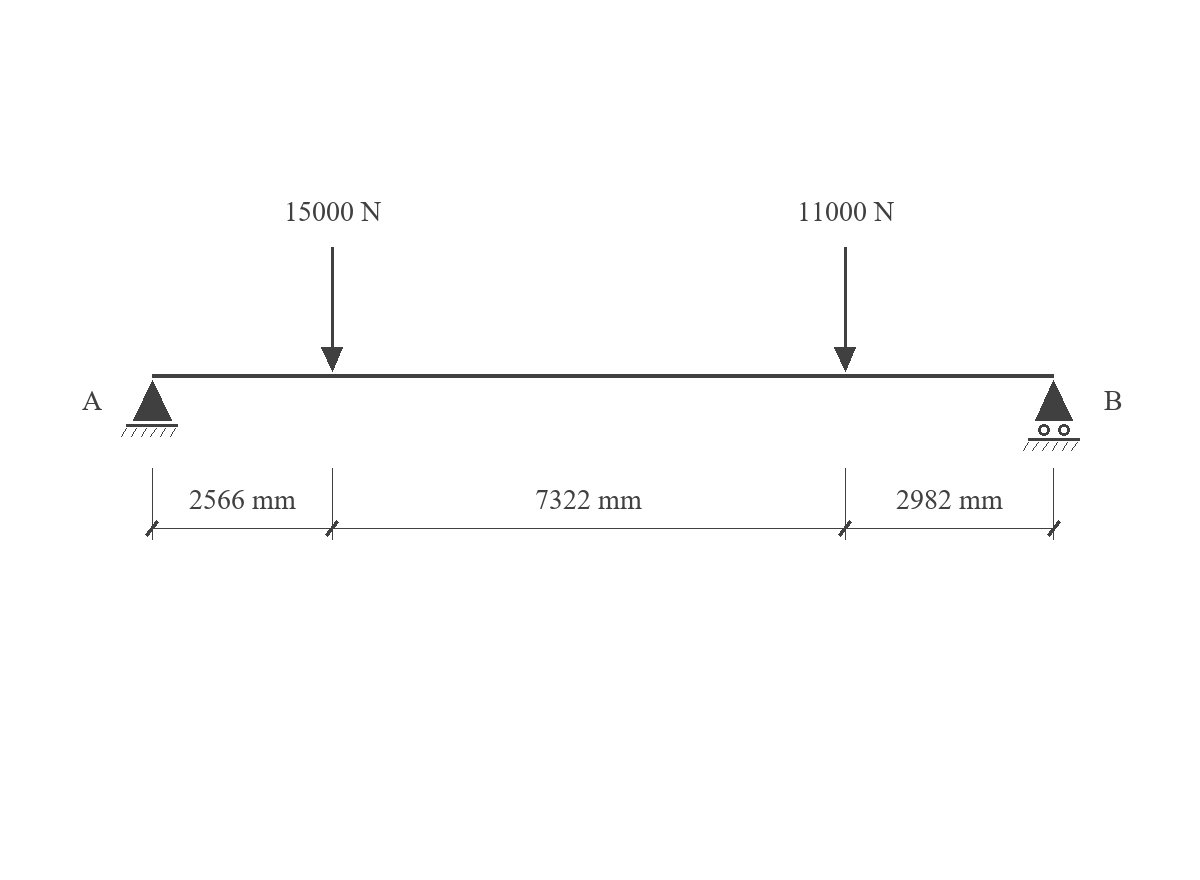pin_support: (121, 380, 178, 437)
point_load: (321, 247, 343, 372), (834, 247, 856, 372)
roller_support: (1023, 380, 1080, 451)
